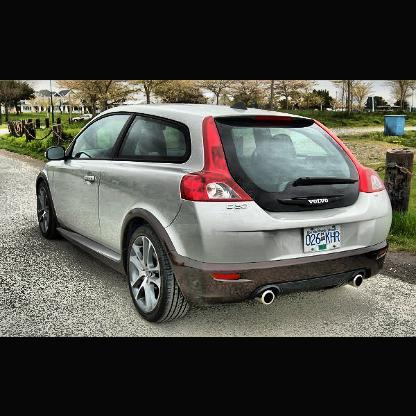Volvo C30 Hatchback 2012: (36, 101, 392, 323)
